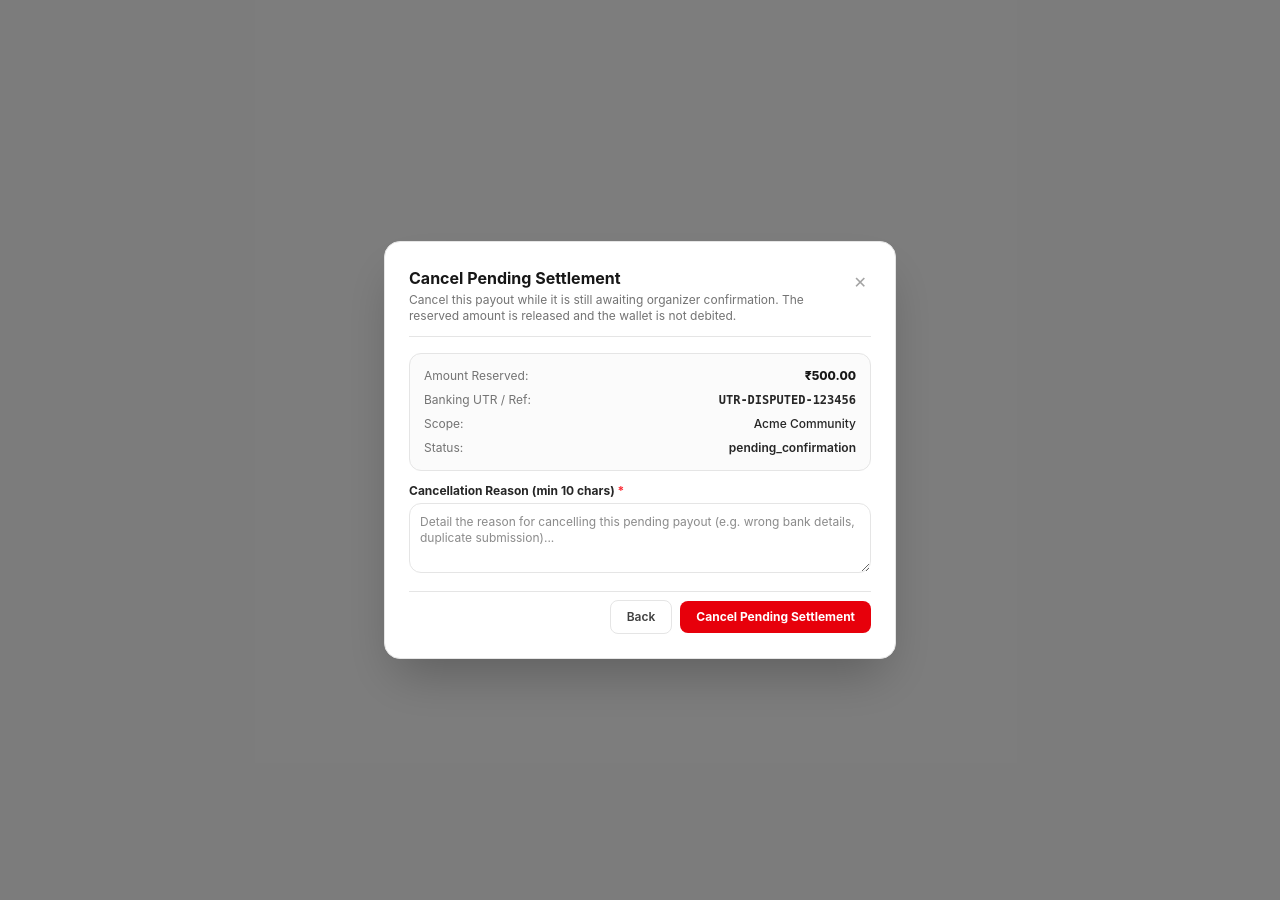
Test: PayoutDisputeResolutionModal › surfaces the RPC error message and does not report success
Type "Cancelling duplicate record before confirmation." into the text box with placeholder "Detail the reason for cancelling this pending payout" at (640, 538), box x1=409 y1=503 x2=871 y2=573
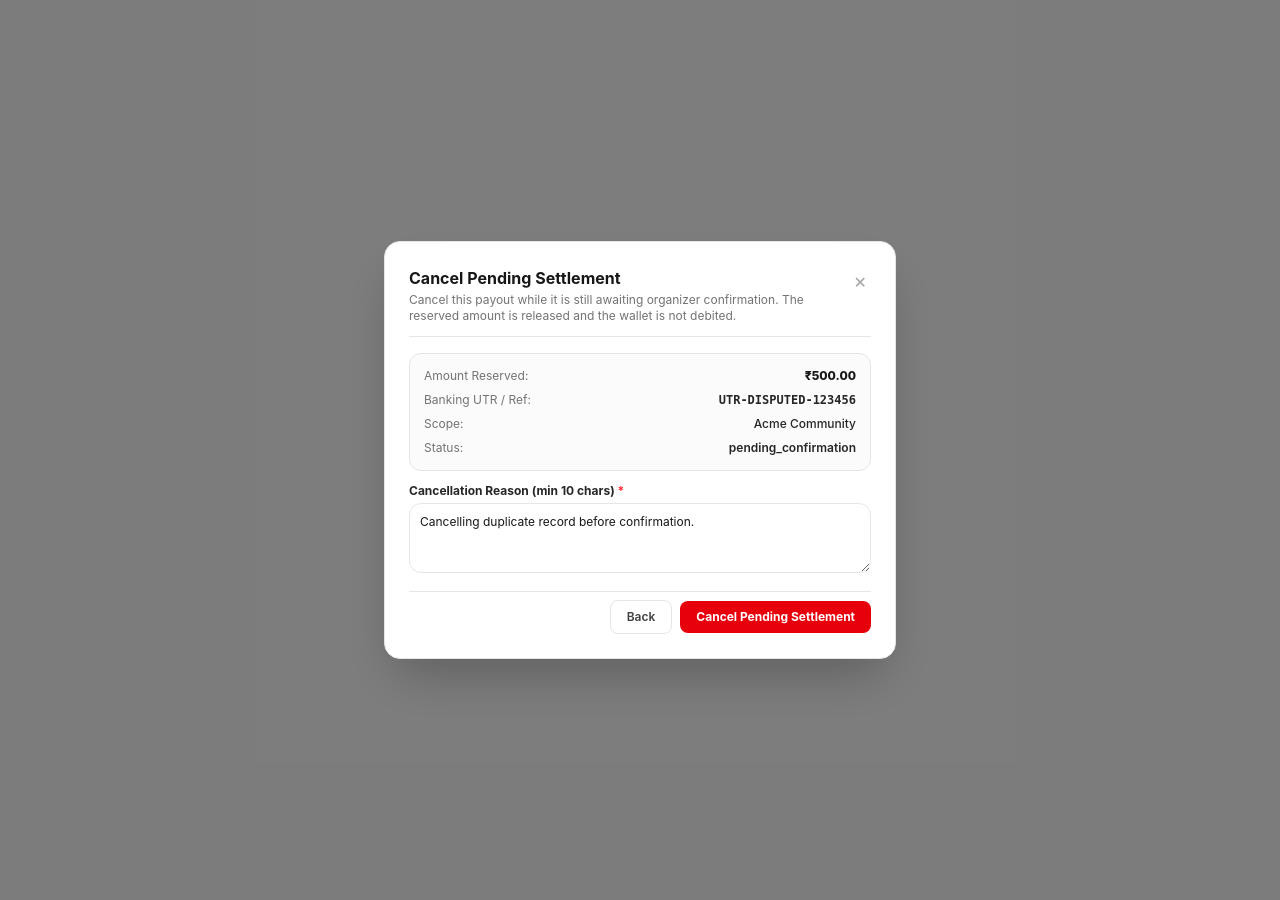
Click the button "Cancel Pending Settlement" at (776, 617), box x1=680 y1=601 x2=871 y2=633
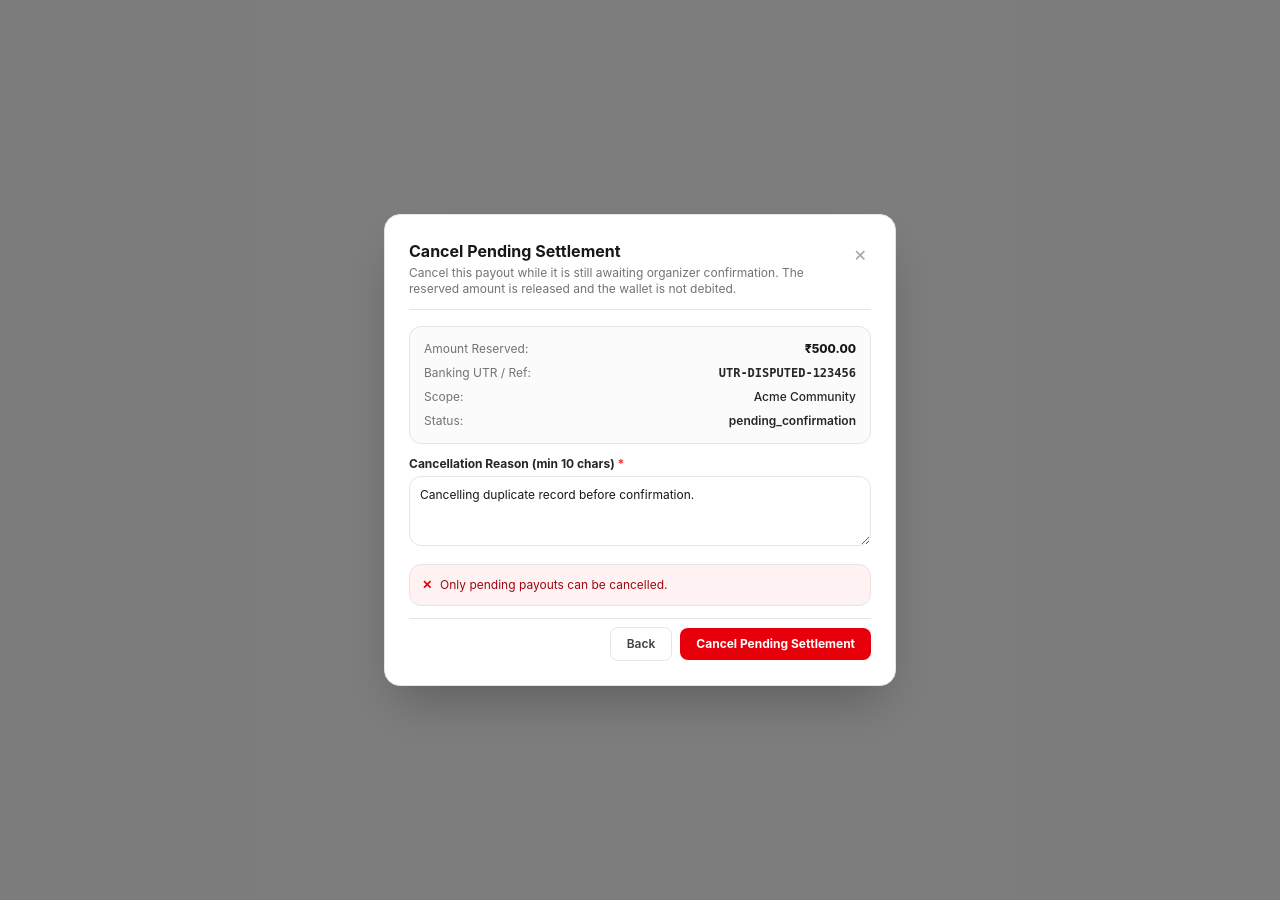
Result: the text "Only pending payouts can be cancelled." is shown at x1=440 y1=577 x2=668 y2=593
